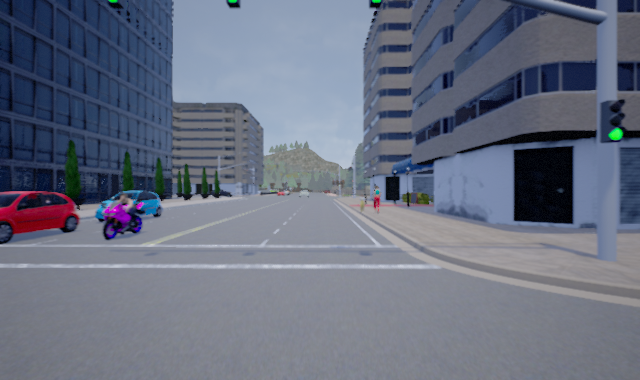motobike: (101, 194, 141, 240)
pedestrian: (370, 183, 383, 213), (357, 192, 368, 212)
vehicle: (1, 189, 79, 243), (95, 190, 163, 222)
